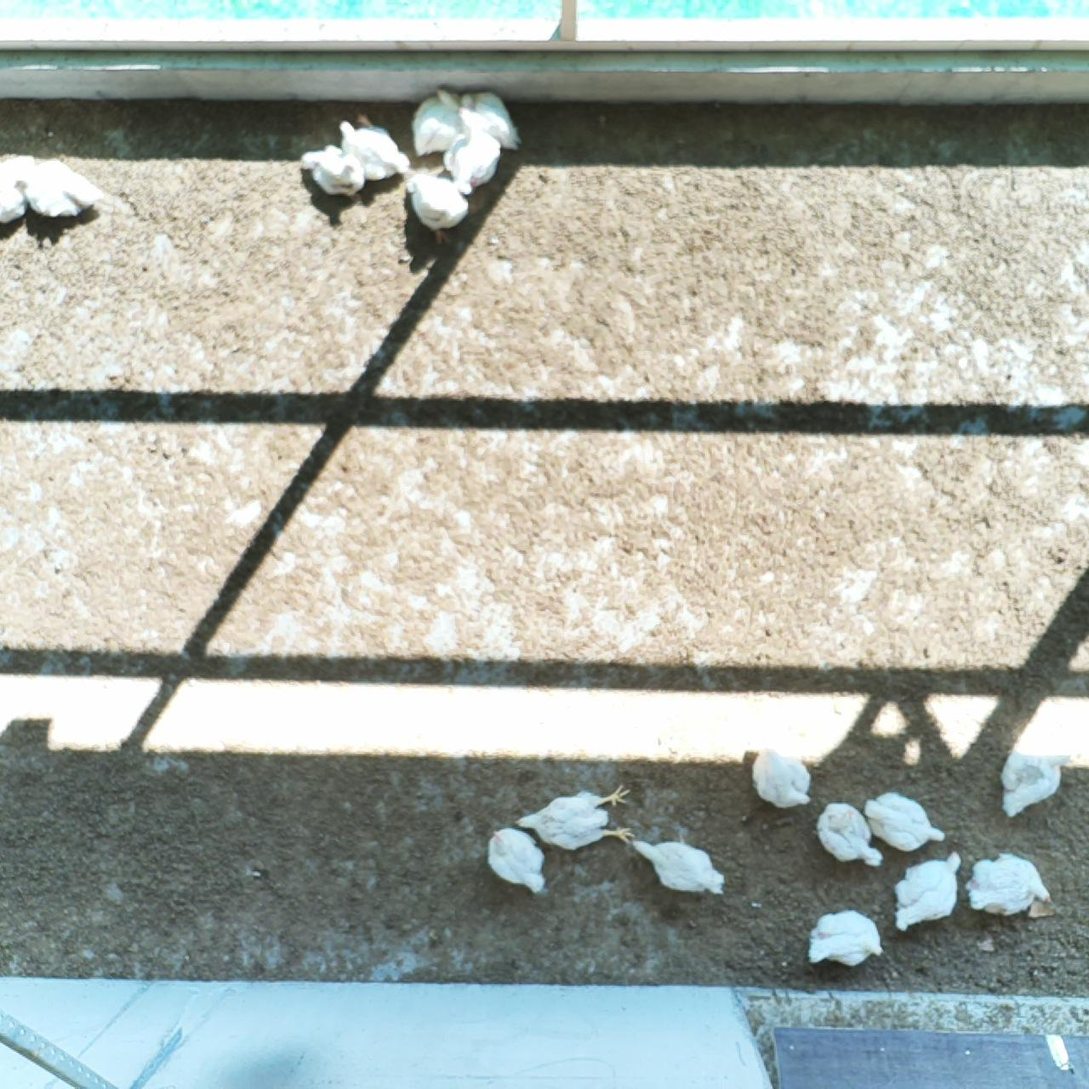chicken: (510, 779, 636, 855), (629, 825, 729, 904), (891, 846, 968, 937), (995, 739, 1076, 824), (963, 850, 1058, 921), (11, 156, 109, 224), (860, 784, 946, 856), (335, 108, 412, 186), (803, 904, 888, 974), (401, 165, 473, 247), (442, 107, 503, 197), (815, 796, 887, 872), (484, 823, 549, 900), (748, 737, 815, 811), (410, 83, 470, 159), (455, 88, 525, 152), (298, 140, 367, 199), (0, 151, 39, 226)
